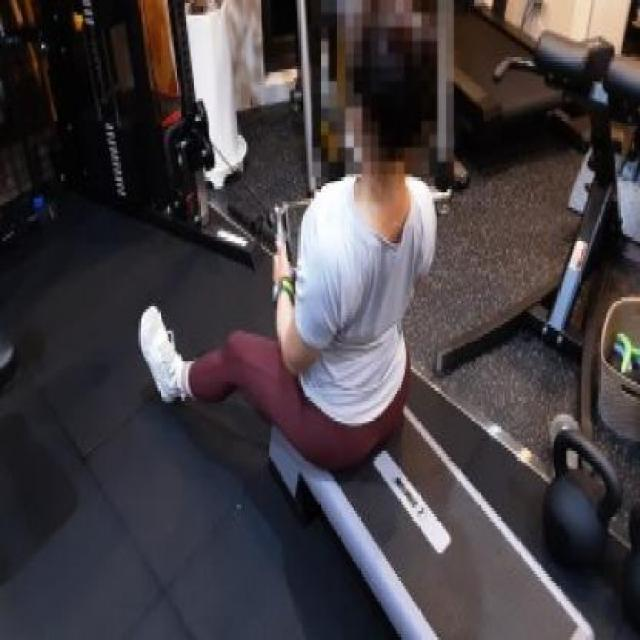Seated Cable Rows: (5, 0, 466, 502)
